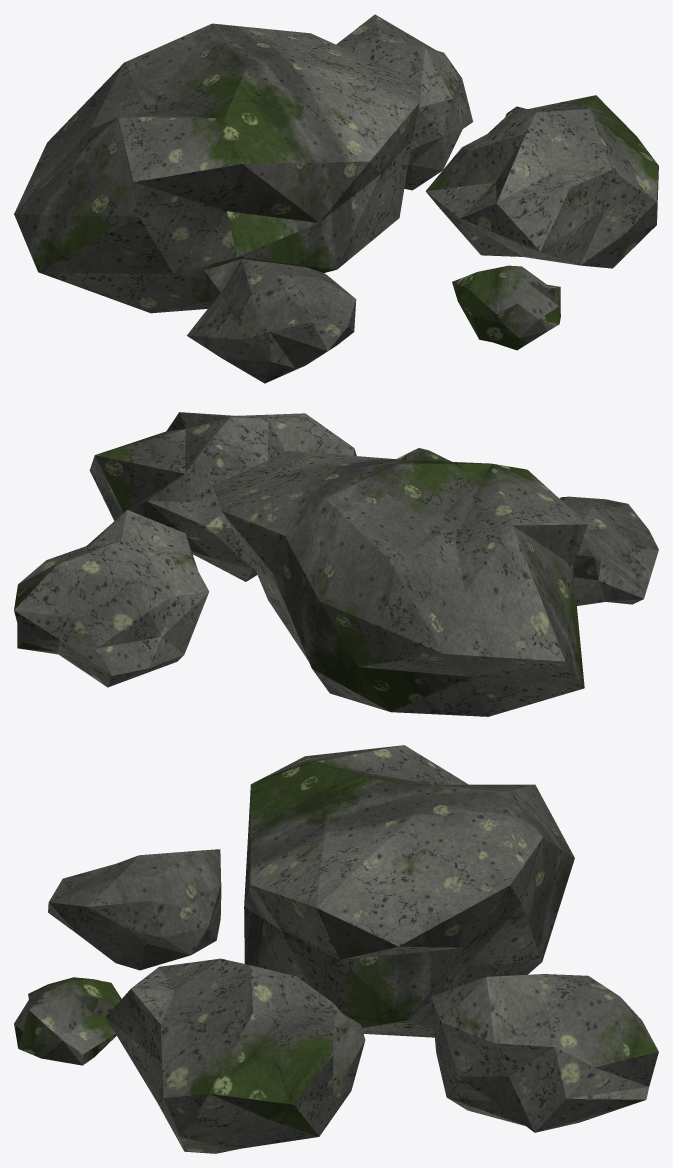
Rendered from rocks.glb.
3 views of the same model, one above another, from view 1: azimuth 30°, elevation 25°; view 2: azimuth 150°, elevation 25°; view 3: azimuth 270°, elevation 25° (orthographic). The views are drawn at different scales.
Parts seen in each view (by area): view 1: Rock0, Rock1, Rock3, Rock2, Rock4; view 2: Rock0, Rock2, Rock1, Rock3; view 3: Rock0, Rock1, Rock2, Rock3, Rock4.
Boxes of the visible parts, x1,y1,x2,y2 form: Rock0: (14,23,420,313); Rock1: (425,95,658,268); Rock3: (187,259,356,383); Rock2: (336,14,473,190); Rock4: (452,265,560,350); Rock0: (213,450,587,716); Rock2: (14,510,209,687); Rock1: (89,412,356,581); Rock3: (559,496,658,605); Rock0: (244,745,574,1037); Rock1: (106,958,365,1153); Rock2: (431,974,658,1132); Rock3: (48,849,221,970); Rock4: (14,977,121,1065).
Bounding box in the file's own units: 0.5701 × 0.23 × 0.5261.
1 material, 1 textured.
